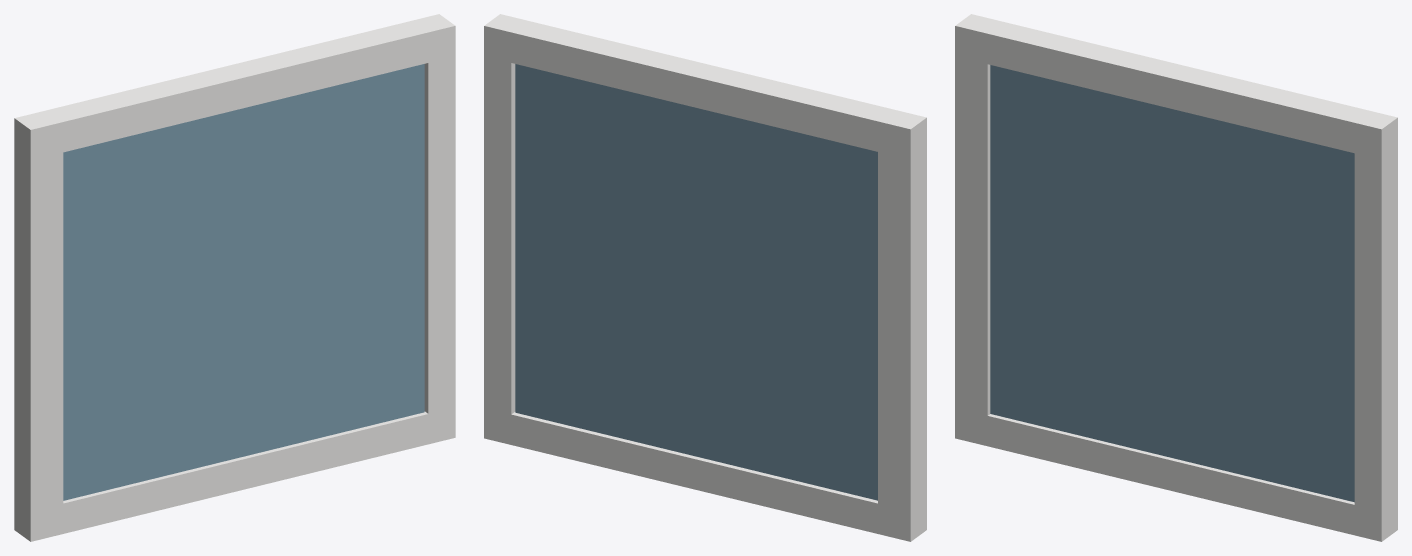
Rendered from Window_26.fbx.
3 renders of one model, left to right at view 1: azimuth 30°, elevation 25°; view 2: azimuth 150°, elevation 25°; view 3: azimuth 330°, elevation 25°, orthographic.
Visible parts, largest first — view 1: Window_26; view 2: Window_26; view 3: Window_26.
Boxes of the visible parts, bbox=[...] form: Window_26: bbox=[14, 14, 455, 541]; Window_26: bbox=[484, 14, 926, 541]; Window_26: bbox=[955, 14, 1397, 541].
Size of the model in its own units: 182 by 12.38 by 168.
